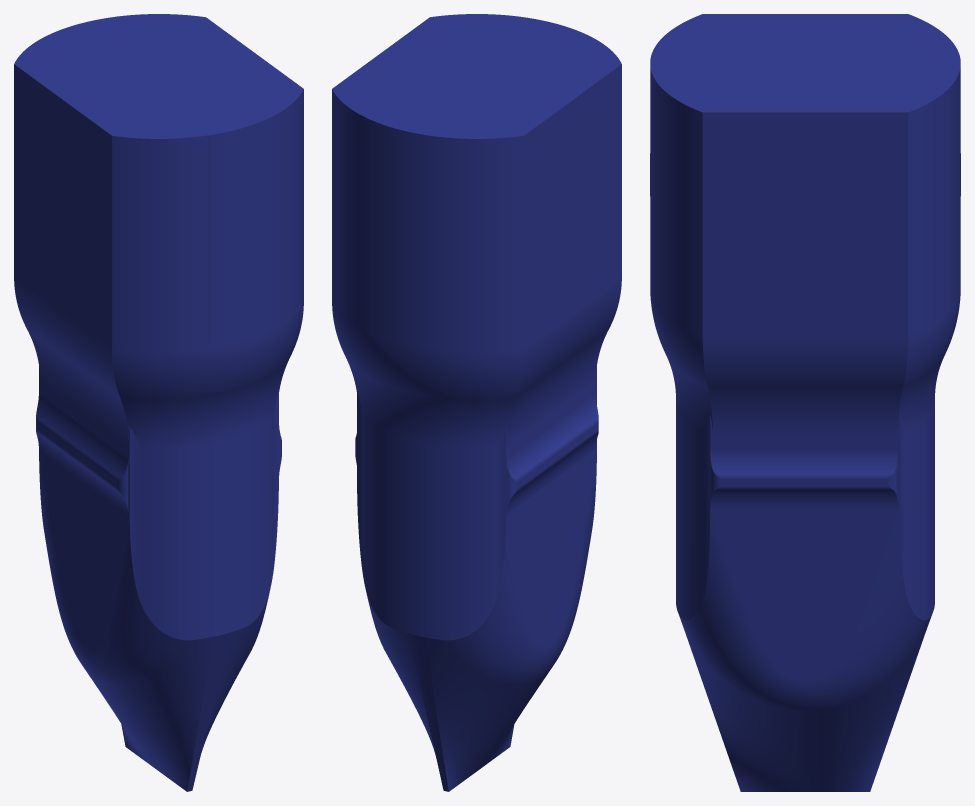
Rendered from squeezbottle v63_squeezbottle v63_BREP V1_1_Body1_BREP V1.obj.
3 views of the same model, side by side, from view 1: azimuth 30°, elevation 25°; view 2: azimuth 150°, elevation 25°; view 3: azimuth 270°, elevation 25° (orthographic). The views are drawn at different scales.
Visible parts, largest first — view 1: Body1; view 2: Body1; view 3: Body1.
Boxes of the visible parts, bbox=[...] form: Body1: bbox=[14, 14, 303, 791]; Body1: bbox=[332, 14, 621, 791]; Body1: bbox=[650, 14, 960, 791].
Size of the model in its own units: 18 by 62 by 24.
